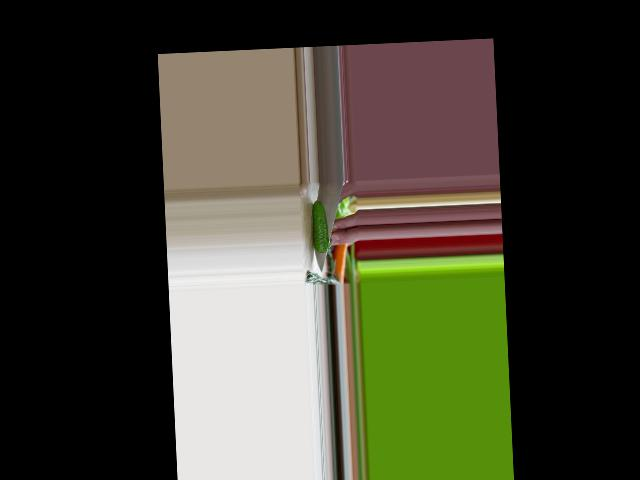cucumber: (310, 200, 329, 254)
